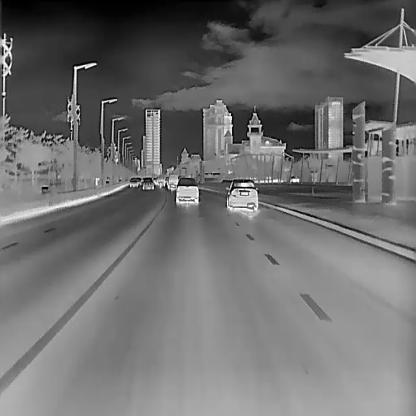car: (226, 180, 258, 211), (174, 176, 198, 204), (168, 174, 178, 192), (141, 175, 153, 189), (128, 176, 136, 187), (289, 176, 298, 182)
